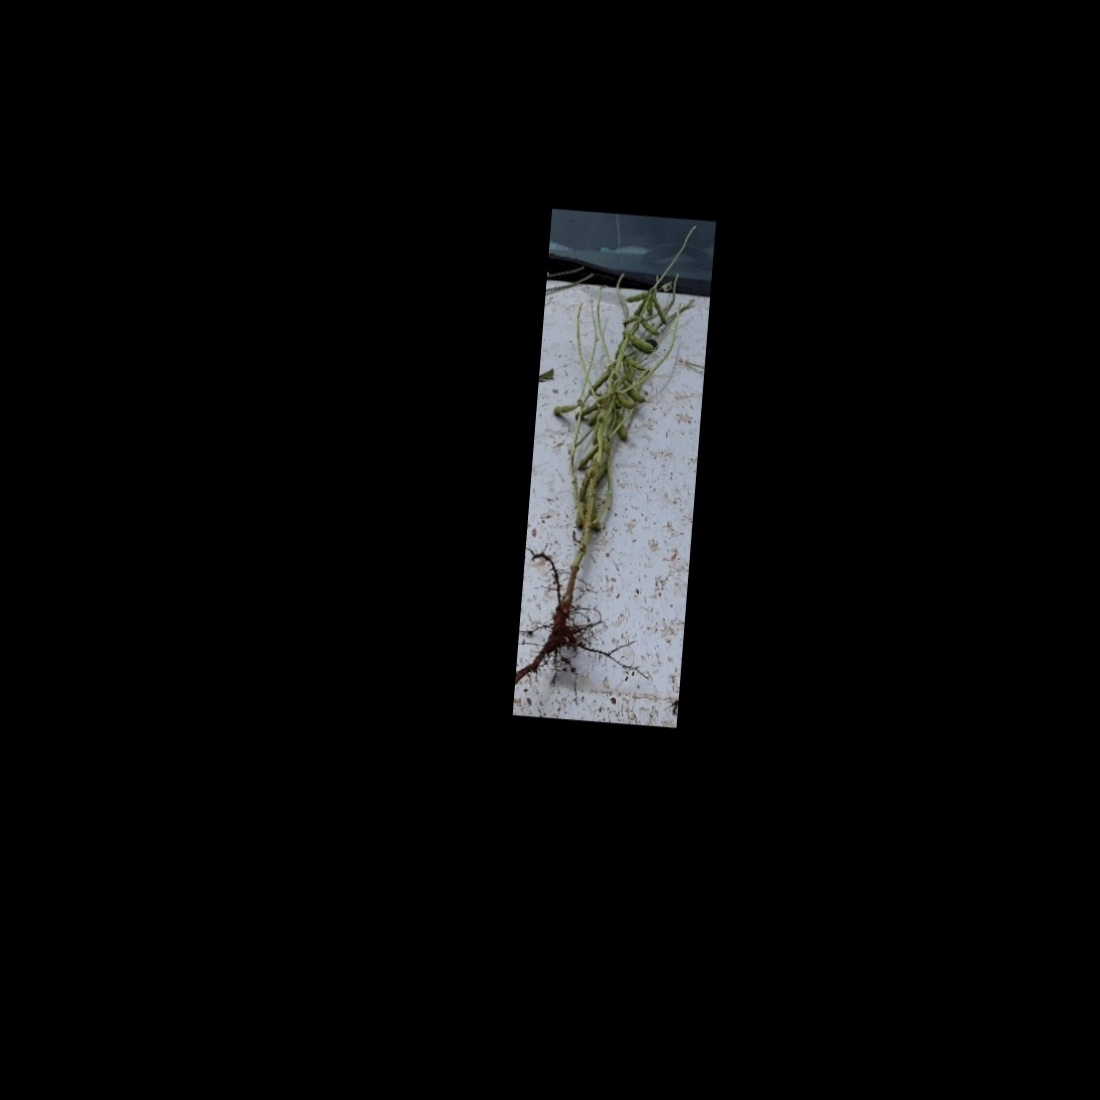pod: (648, 290, 672, 328), (574, 440, 601, 473), (572, 466, 593, 504), (627, 332, 658, 357), (623, 354, 652, 377), (612, 390, 639, 415), (624, 288, 654, 307)
soy: (525, 262, 706, 677)
